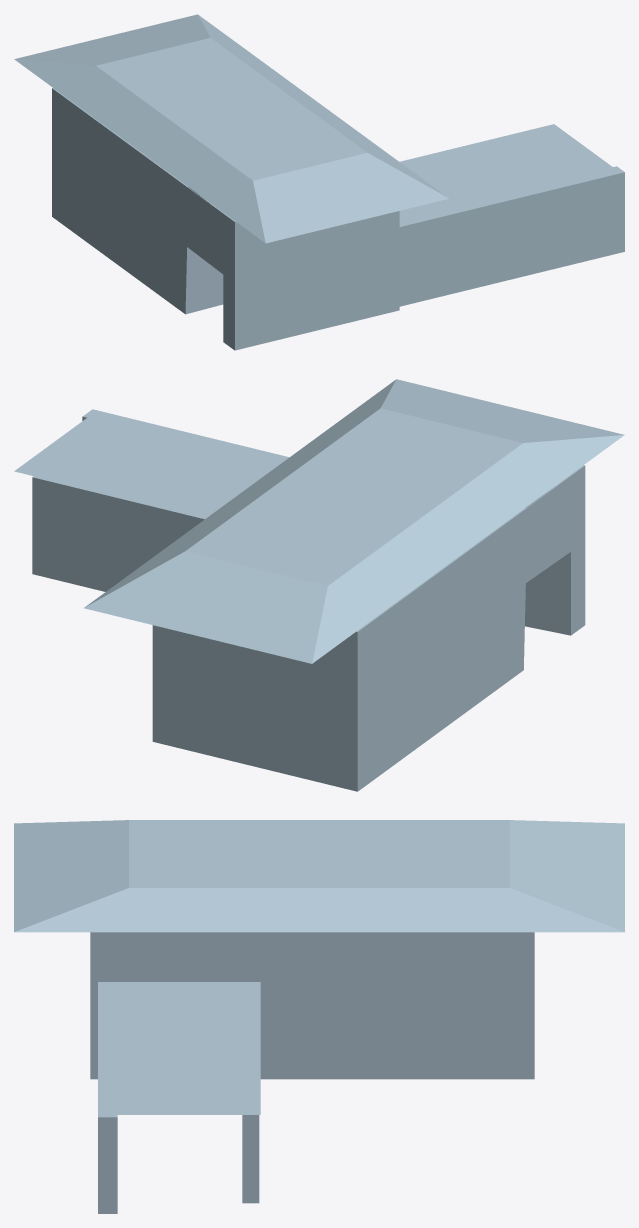
Rendered from Housing8Nav.glb.
3 views of the same model, one above another, from view 1: azimuth 30°, elevation 25°; view 2: azimuth 150°, elevation 25°; view 3: azimuth 270°, elevation 25° (orthographic). The views are drawn at different scales.
Parts seen in each view (by area): view 1: Cube.001, Cube; view 2: Cube.001, Cube; view 3: Cube.001, Cube.
Boxes of the visible parts, left/top/right/bottom form: Cube.001: left=14, top=14, right=624, bottom=306; Cube: left=52, top=88, right=399, bottom=350; Cube.001: left=14, top=379, right=624, bottom=663; Cube: left=152, top=465, right=585, bottom=791; Cube.001: left=14, top=820, right=624, bottom=1213; Cube: left=90, top=932, right=534, bottom=1079.
Size of the model in its own units: 6.21 by 2.26 by 6.88.
